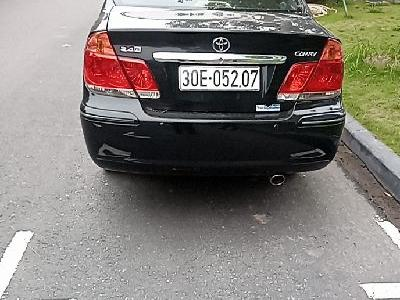car: (176, 62, 264, 93)
